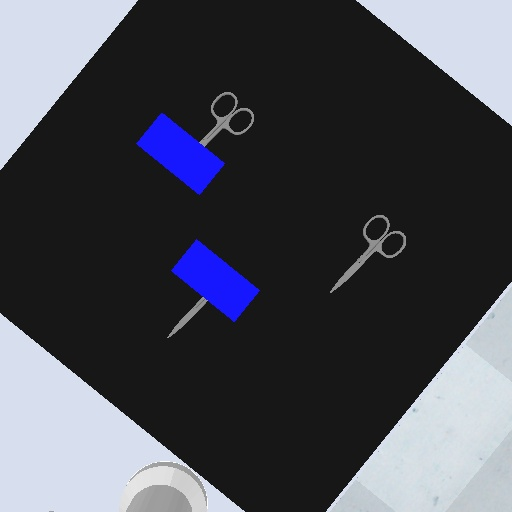tijera: (326, 211, 411, 297), (196, 89, 258, 148), (164, 295, 211, 340)
